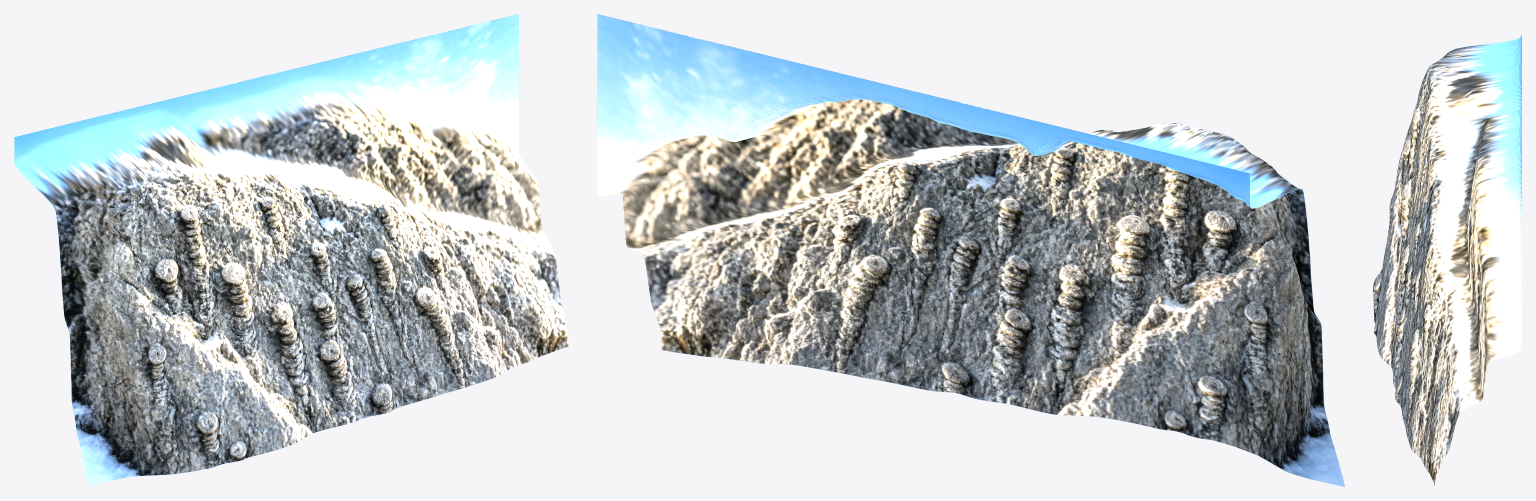
The model's file is roca_fosil.glb.
3 renders of one model, left to right at view 1: azimuth 30°, elevation 25°; view 2: azimuth 150°, elevation 25°; view 3: azimuth 270°, elevation 25°, orthographic. The views are drawn at different scales.
Visible parts, largest first — view 1: geometry_0; view 2: geometry_0; view 3: geometry_0.
Boxes of the visible parts, x1,y1,x2,y2 form: geometry_0: (14,14,568,486); geometry_0: (597,14,1344,486); geometry_0: (1373,34,1521,485).
Bounding box in the file's own units: 16 × 8.98 × 4.69.
1 material, 1 textured.
